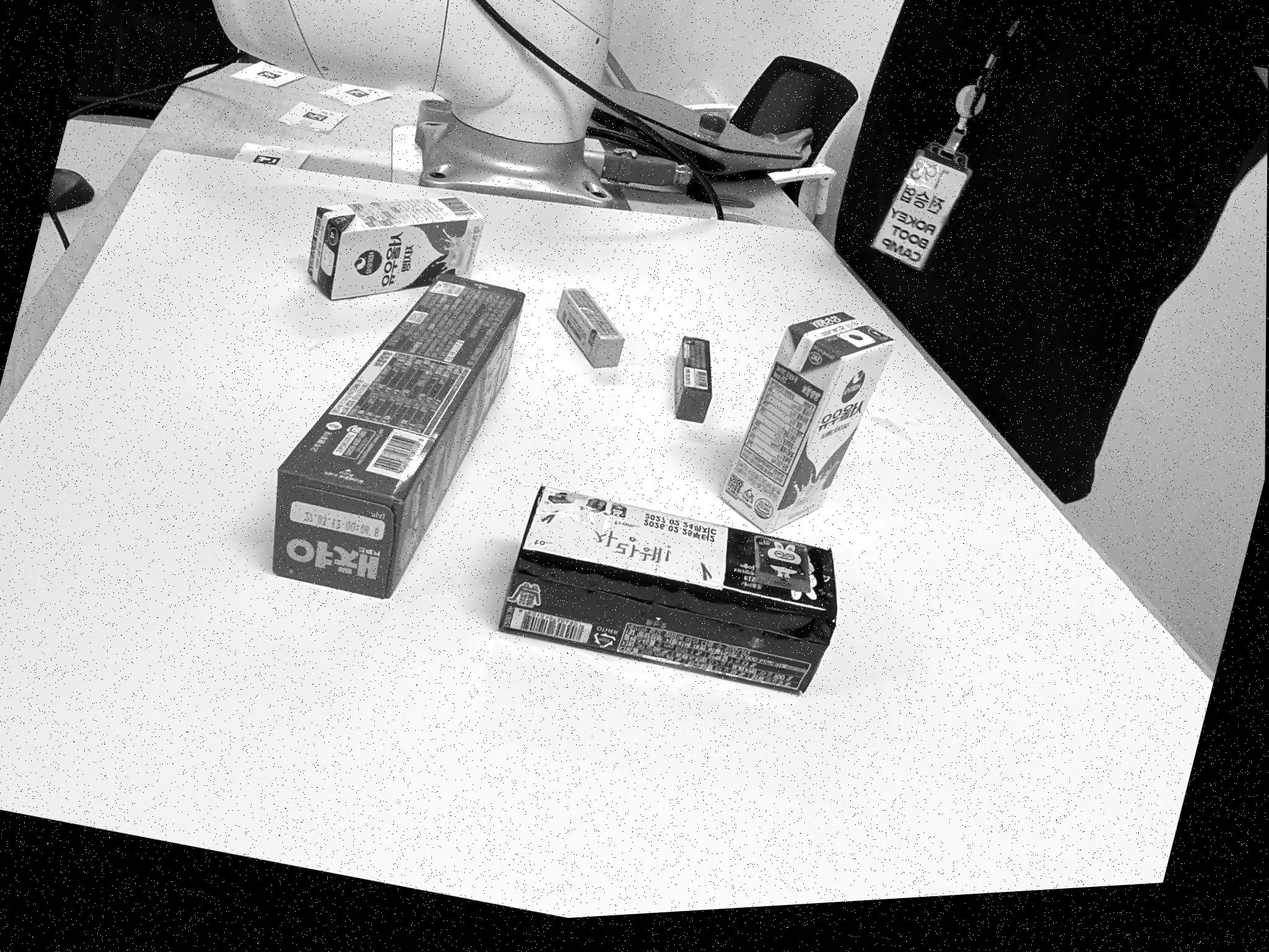cracker_ace: (500, 485, 837, 692)
cracker_vege: (272, 274, 525, 598)
gum_green: (674, 336, 713, 422)
gum_yellow: (557, 288, 624, 367)
milk_blue: (308, 195, 483, 299)
milk_green: (723, 312, 893, 532)
